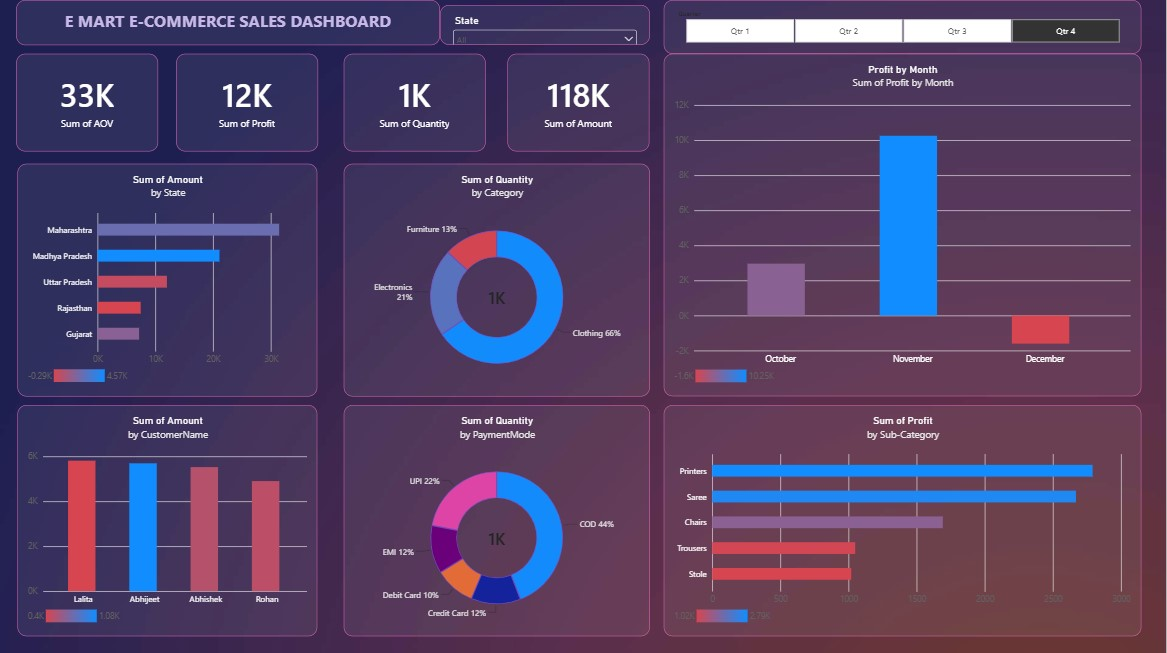

What the dashboard file says about the page in this screenshot:
{"tool":"powerbi","page":{"name":"Page 1","canvas":[1920,1080],"ordinal":0},"visuals":[{"type":"textbox","box":[26.8,0,697.8,74.1],"z":0},{"type":"columnChart","title":"Profit by Month","fields":{"Category":["Orders.Order Date.Variation.Date Hierarchy.Month"],"Y":["Sum(Details.Profit)"]},"box":[1093,88.5,786.3,564],"z":1000},{"type":"barChart","fields":{"Category":["Details.Sub-Category"],"Y":["Sum(Details.Profit)"]},"box":[1093,666.9,786.3,380.8],"z":2000},{"type":"donutChart","fields":{"Category":["Details.Category"],"Y":["Sum(Details.Quantity)"]},"box":[566,269.6,504.3,382.8],"z":3000},{"type":"donutChart","fields":{"Series":["Details.PaymentMode"],"Y":["Sum(Details.Quantity)"]},"box":[566,666.9,504.3,380.8],"z":4000},{"type":"cardVisual","fields":{"Data":["Sum(Details.Amount)"]},"box":[835.7,89.3,233.9,160.7],"z":5000},{"type":"cardVisual","fields":{"Data":["Sum(Details.Quantity)"]},"box":[566,88.5,233.9,160.7],"z":6000},{"type":"cardVisual","fields":{"Data":["Sum(Details.Profit)"]},"box":[290.2,88.5,233.9,160.7],"z":7000},{"type":"cardVisual","fields":{"Data":["Sum(Details.AOV)"]},"box":[26.8,89.3,233.9,160.7],"z":8000},{"type":"barChart","fields":{"Category":["Orders.State"],"Y":["Sum(Details.Amount)"]},"box":[28.8,269.6,494,382.8],"z":8001},{"type":"columnChart","fields":{"Category":["Orders.CustomerName"],"Y":["Sum(Details.Amount)"]},"box":[28.8,666.9,494,380.8],"z":8002},{"type":"slicer","fields":{"Values":["Orders.Order Date.Variation.Date Hierarchy.Quarter"]},"box":[1093,0,786.3,88.5],"z":8003},{"type":"slicer","fields":{"Values":["Orders.State"]},"box":[724.5,8.2,345.8,65.9],"z":8004}]}

Visuals, with their boxes in screenshot pixels (x1, y1, x2, y2), scaled from the page's 1920x1080 canvas onto the 1167x653 screenshot:
textbox: {"left": 16, "top": 0, "right": 440, "bottom": 45}
"Profit by Month" columnChart: {"left": 664, "top": 54, "right": 1142, "bottom": 395}
barChart - Details.Sub-Category x Sum(Details.Profit): {"left": 664, "top": 403, "right": 1142, "bottom": 633}
donutChart - Details.Category x Sum(Details.Quantity): {"left": 344, "top": 163, "right": 651, "bottom": 394}
donutChart - Details.PaymentMode x Sum(Details.Quantity): {"left": 344, "top": 403, "right": 651, "bottom": 633}
cardVisual - Sum(Details.Amount): {"left": 508, "top": 54, "right": 650, "bottom": 151}
cardVisual - Sum(Details.Quantity): {"left": 344, "top": 54, "right": 486, "bottom": 151}
cardVisual - Sum(Details.Profit): {"left": 176, "top": 54, "right": 319, "bottom": 151}
cardVisual - Sum(Details.AOV): {"left": 16, "top": 54, "right": 158, "bottom": 151}
barChart - Orders.State x Sum(Details.Amount): {"left": 18, "top": 163, "right": 318, "bottom": 394}
columnChart - Orders.CustomerName x Sum(Details.Amount): {"left": 18, "top": 403, "right": 318, "bottom": 633}
slicer - Orders.Order Date.Variation.Date Hierarchy.Quarter: {"left": 664, "top": 0, "right": 1142, "bottom": 54}
slicer - Orders.State: {"left": 440, "top": 5, "right": 651, "bottom": 45}
